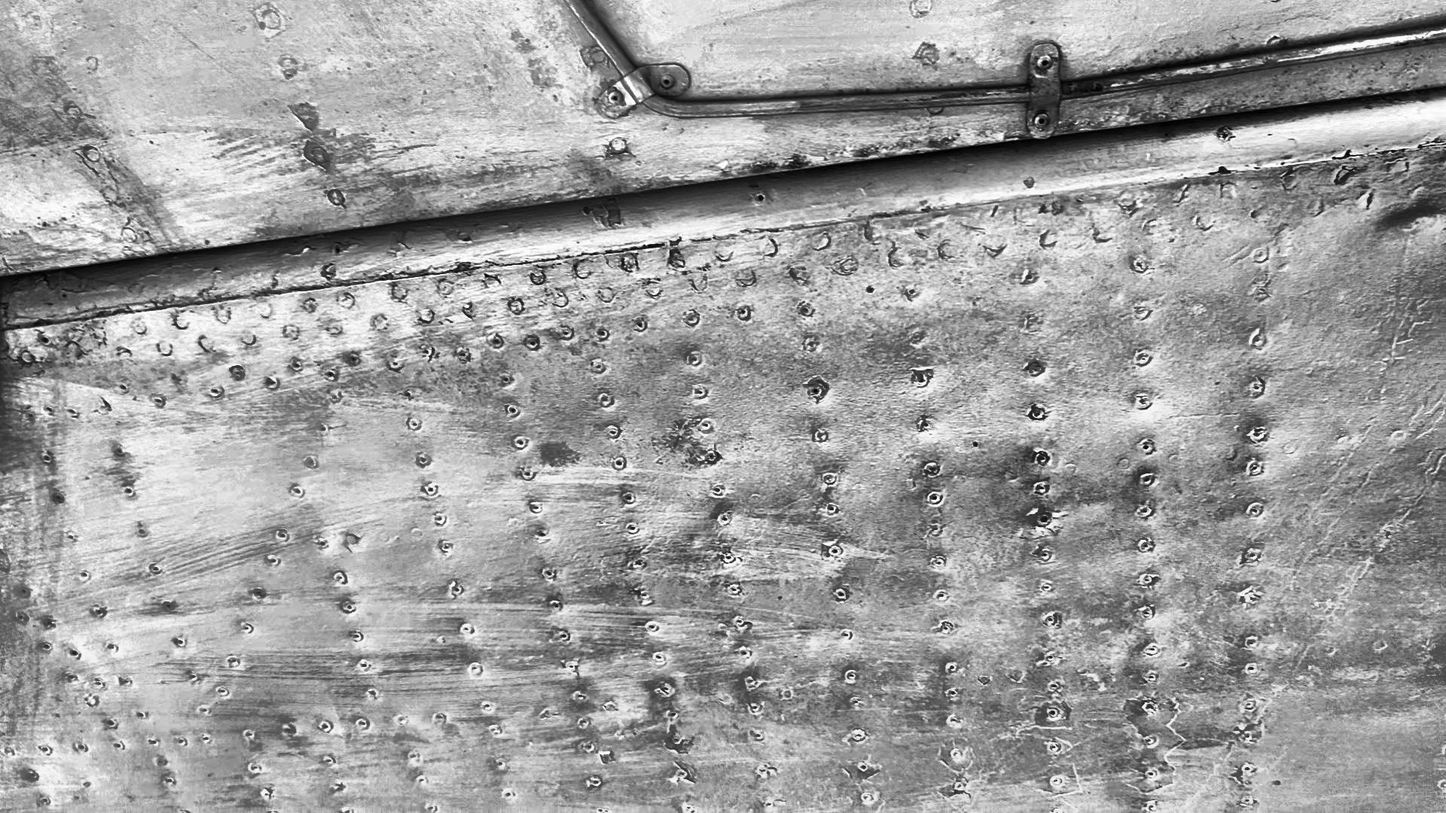dent: (1388, 205, 1444, 233)
